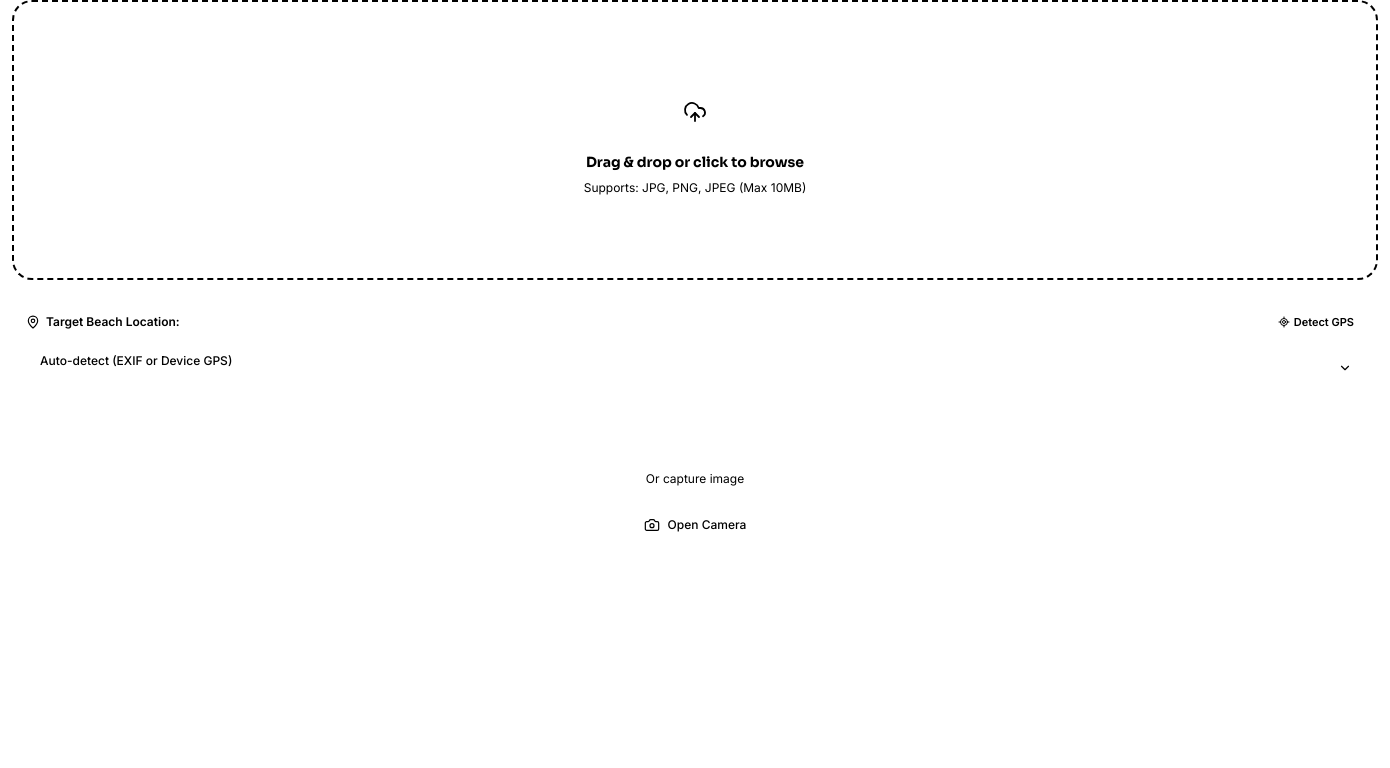
Test: UploadForm component › shows toast notification on camera button click
This screenshot has width=1390, height=768.
Click the button "Open Camera" at (695,524), box [12,506,1378,542]
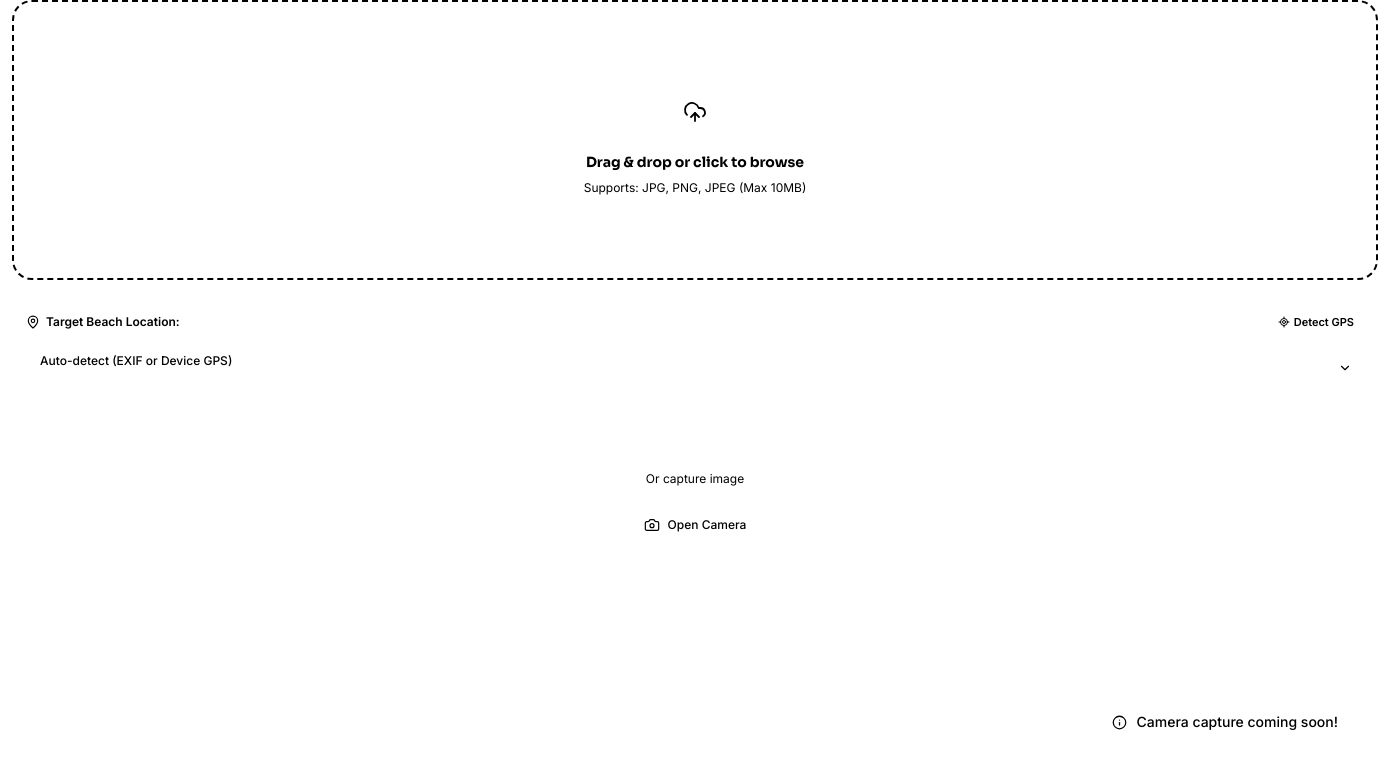
Now the text "Camera capture coming soon!" is shown, box [1136,712,1338,732]
